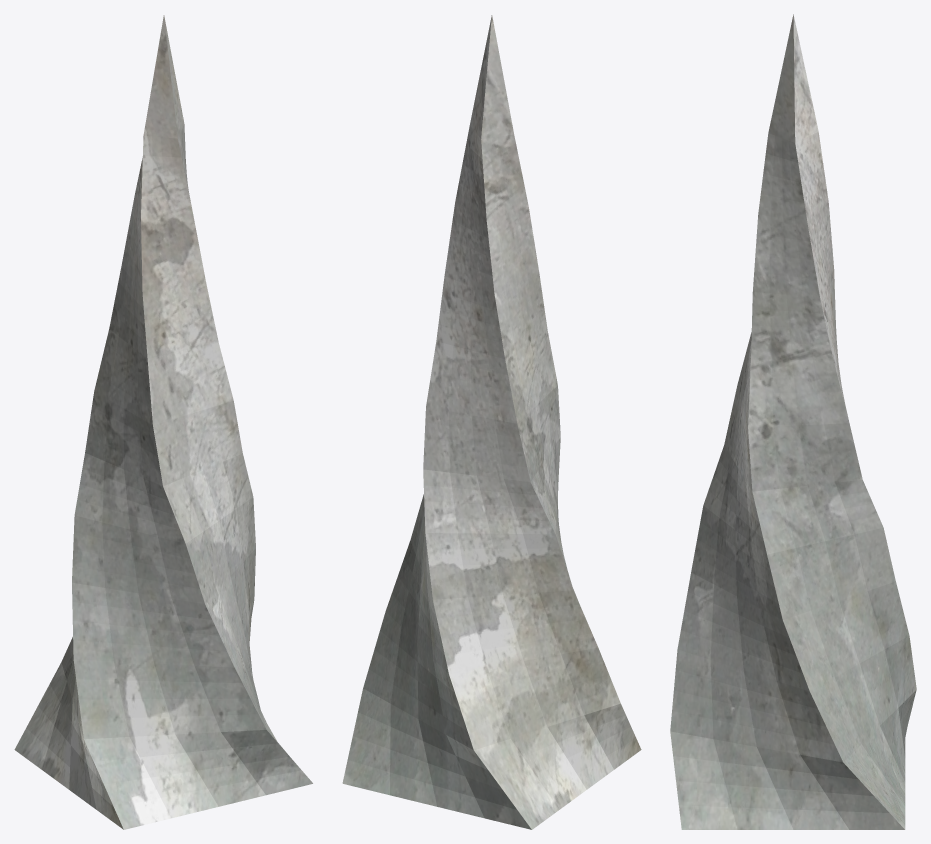
Rendered from spike.gltf.
3 renders of one model, left to right at view 1: azimuth 30°, elevation 25°; view 2: azimuth 150°, elevation 25°; view 3: azimuth 270°, elevation 25°, orthographic. The views are drawn at different scales.
Visible parts, largest first — view 1: Cube; view 2: Cube; view 3: Cube.
Part boxes in pixels (left/top/right/bottom): Cube: left=14, top=15, right=312, bottom=829; Cube: left=342, top=15, right=641, bottom=829; Cube: left=670, top=14, right=916, bottom=829.
Size of the model in its own units: 2.21 by 7.59 by 2.21.
1 material, 1 textured.
